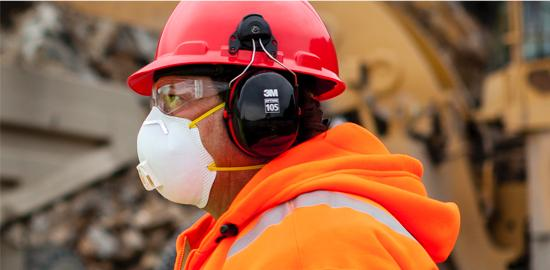helmet: (124, 2, 347, 94)
